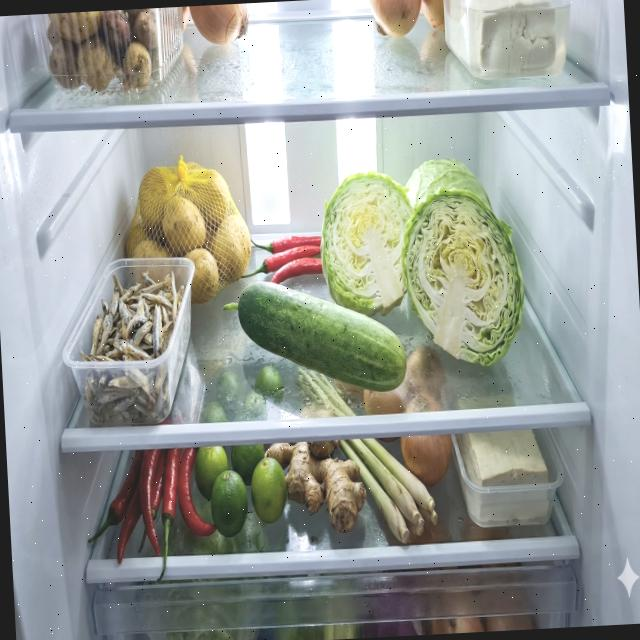anchovies: (76, 269, 192, 425)
cabbage: (398, 186, 528, 372), (316, 170, 418, 320), (402, 156, 494, 216)
chili: (82, 446, 220, 586), (238, 232, 324, 287)
cucumber: (236, 276, 408, 400)
ginger: (262, 436, 368, 538)
lemongrass: (296, 360, 440, 551)
lime: (193, 443, 290, 541)
onion: (398, 392, 454, 488)
potato: (122, 160, 255, 304)
tofu: (455, 428, 551, 524), (447, 0, 559, 75)
